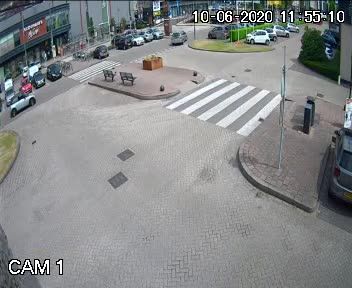car: (7, 88, 39, 116), (167, 27, 189, 47)
